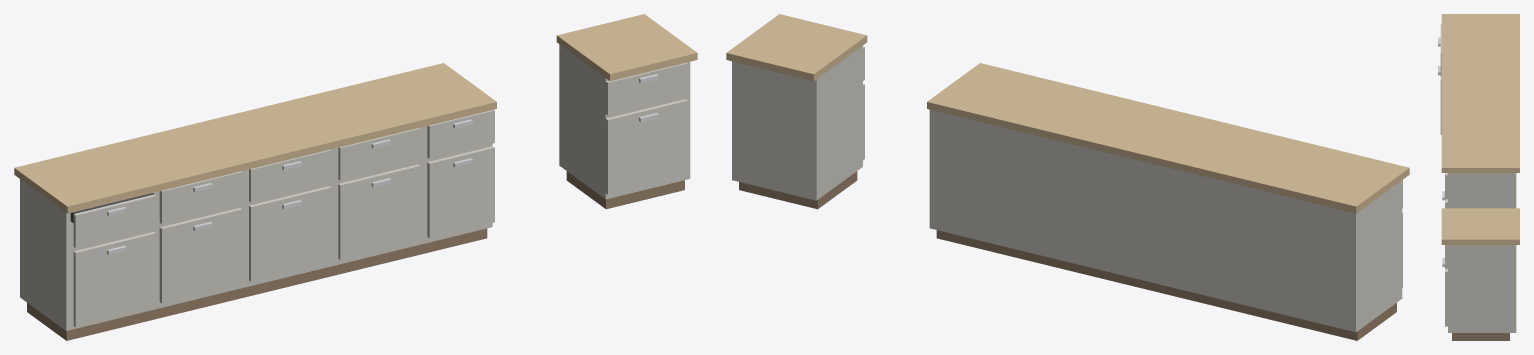
Rendered from kitchen-run-south.gltf.
3 renders of one model, left to right at view 1: azimuth 30°, elevation 25°; view 2: azimuth 150°, elevation 25°; view 3: azimuth 270°, elevation 25°, orthographic. The views are drawn at different scales.
Visible parts, largest first — view 1: counter_l, carcass_l, door_1, door_6, door_0, door_3, door_2, end_panel_r, counter_r, door_4, plinth_l, drawer_0 (+7 smaller); view 2: carcass_l, counter_l, carcass_r, end_panel_r, counter_r, plinth_l, plinth_r; view 3: counter_l, carcass_r, counter_r, end_panel_l, plinth_r, door_6, door_0, drawer_0, drawer_4.
Part boxes in pixels (bbox=[...]): counter_l: bbox=[14, 63, 496, 213]; carcass_l: bbox=[20, 126, 489, 330]; door_1: bbox=[159, 208, 242, 303]; door_6: bbox=[605, 99, 687, 194]; door_0: bbox=[73, 232, 155, 327]; door_3: bbox=[338, 164, 420, 259]; door_2: bbox=[249, 186, 331, 281]; end_panel_r: bbox=[559, 44, 608, 199]; counter_r: bbox=[556, 14, 697, 81]; door_4: bbox=[427, 146, 494, 238]; plinth_l: bbox=[27, 228, 487, 340]; drawer_0: bbox=[73, 194, 155, 247]; carcass_l: bbox=[932, 110, 1402, 332]; counter_l: bbox=[927, 63, 1409, 213]; carcass_r: bbox=[732, 61, 813, 199]; end_panel_r: bbox=[813, 46, 862, 200]; counter_r: bbox=[726, 14, 867, 81]; plinth_l: bbox=[936, 230, 1396, 340]; plinth_r: bbox=[739, 171, 857, 209]; counter_l: bbox=[1441, 14, 1519, 172]; carcass_r: bbox=[1448, 245, 1516, 332]; counter_r: bbox=[1441, 208, 1519, 244]; end_panel_l: bbox=[1448, 173, 1516, 208]; plinth_r: bbox=[1452, 333, 1509, 340]; door_6: bbox=[1445, 268, 1447, 326]; door_0: bbox=[1440, 76, 1441, 134]; drawer_0: bbox=[1440, 24, 1441, 76]; drawer_4: bbox=[1445, 173, 1447, 199].
Bounding box in the file's own units: 0.265 × 0.0566 × 0.0406.
